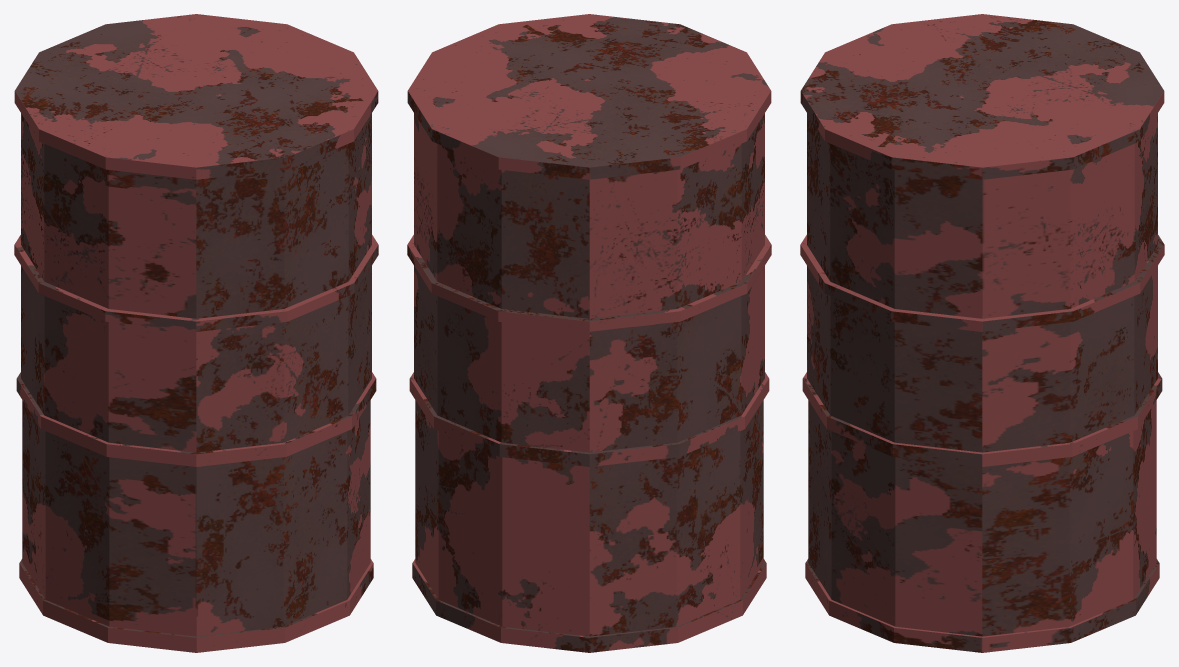
File: bochka2.fbx
3 renders of one model, left to right at view 1: azimuth 30°, elevation 25°; view 2: azimuth 150°, elevation 25°; view 3: azimuth 270°, elevation 25°, orthographic.
Parts seen in each view (by area): view 1: Cylinder; view 2: Cylinder; view 3: Cylinder.
Part boxes in pixels (bbox=[...]): Cylinder: bbox=[14, 14, 378, 652]; Cylinder: bbox=[407, 14, 771, 652]; Cylinder: bbox=[800, 14, 1164, 652].
Size of the model in its own units: 207 by 306 by 207.
1 material, 1 textured.
